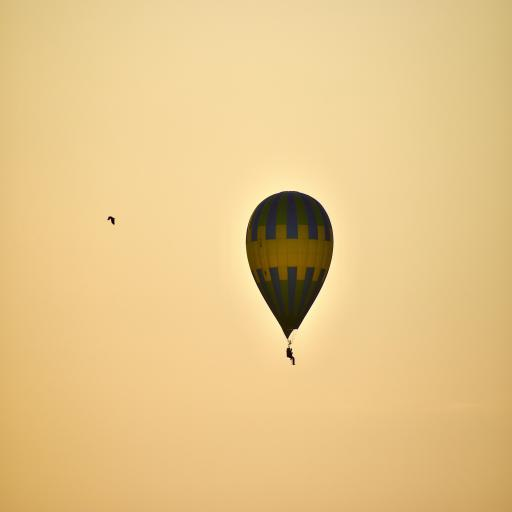bird: (107, 216, 116, 225)
hot air ballon: (246, 191, 334, 357)
